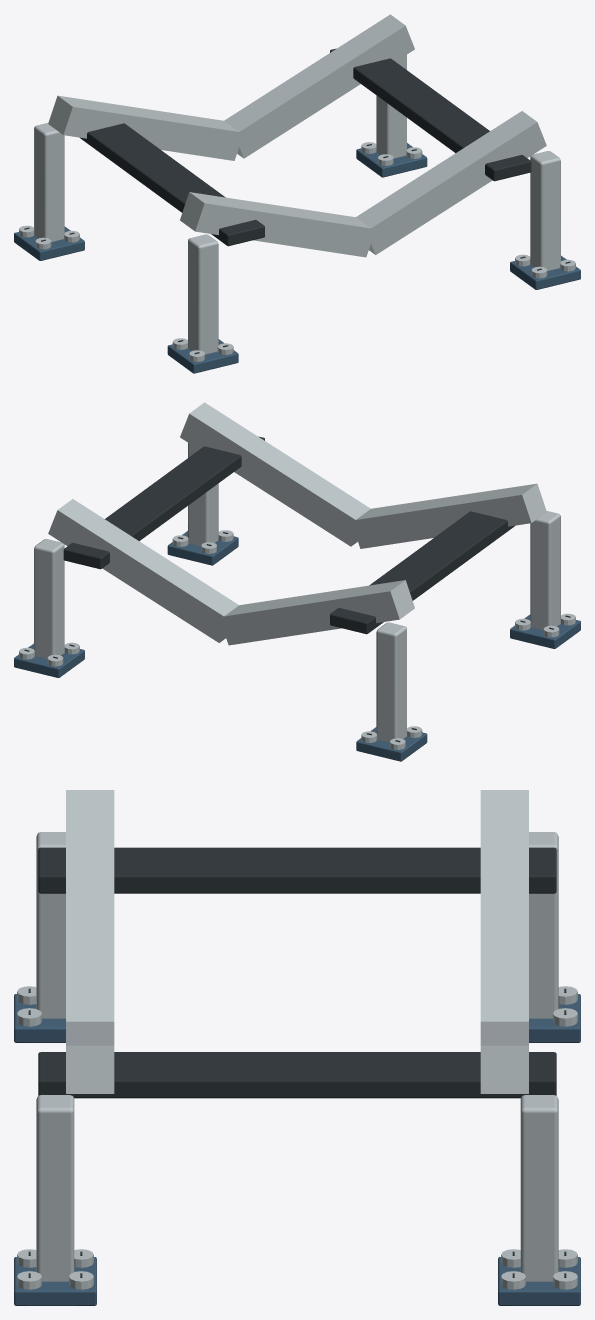
File: container-inspection-and-customs-yard-container-inspec-1f1441fb__29316.glb
The picture shows the model from 3 angles, top to bottom: view 1: azimuth 30°, elevation 25°; view 2: azimuth 150°, elevation 25°; view 3: azimuth 270°, elevation 25°; orthographic projection. The views are drawn at different scales.
Visible parts, largest first — view 1: container-inspection-and-customs-yard-drum-cradle; view 2: container-inspection-and-customs-yard-drum-cradle; view 3: container-inspection-and-customs-yard-drum-cradle.
Part boxes in pixels (x1,y1,x2,y2): container-inspection-and-customs-yard-drum-cradle: [14, 14, 580, 373]; container-inspection-and-customs-yard-drum-cradle: [14, 402, 580, 761]; container-inspection-and-customs-yard-drum-cradle: [14, 790, 580, 1305].
Bounding box in the file's own units: 1.02 × 0.3828 × 0.82.
